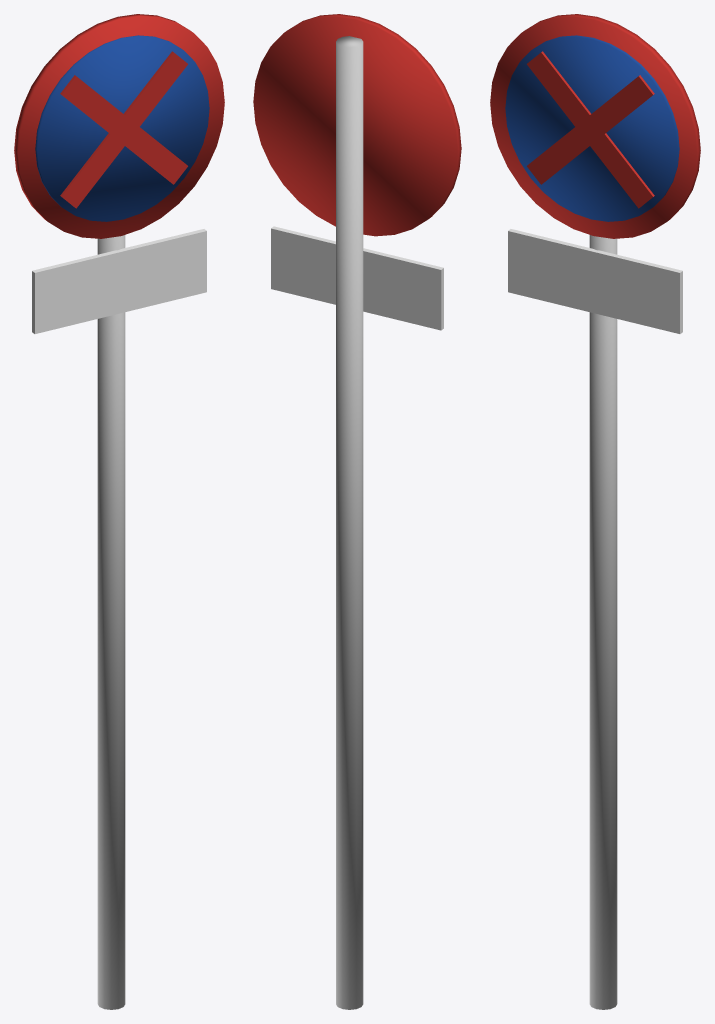
File: no_parking_sign.glb
3 views of the same model, side by side, from view 1: azimuth 30°, elevation 25°; view 2: azimuth 150°, elevation 25°; view 3: azimuth 330°, elevation 25° (orthographic).
Parts seen in each view (by area): view 1: no_parking_sign; view 2: no_parking_sign; view 3: no_parking_sign.
Boxes of the visible parts, box(x1,y1,x2,y2) form: no_parking_sign: box(14, 14, 224, 1009); no_parking_sign: box(253, 14, 461, 1009); no_parking_sign: box(490, 14, 700, 1009).
Size of the model in its own units: 0.6 by 2.75 by 0.103.
